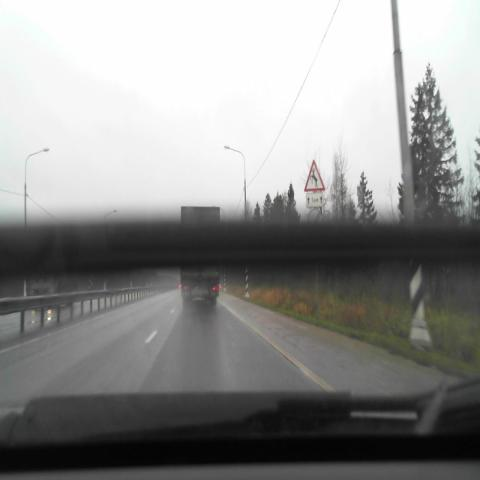1_27: (304, 160, 325, 192)
3_31: (308, 208, 324, 237)
